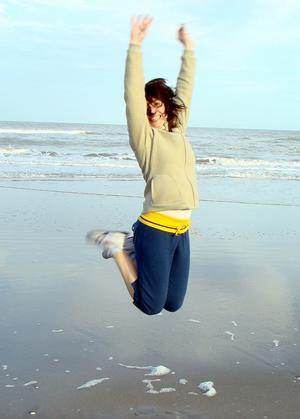person: (90, 12, 199, 318)
